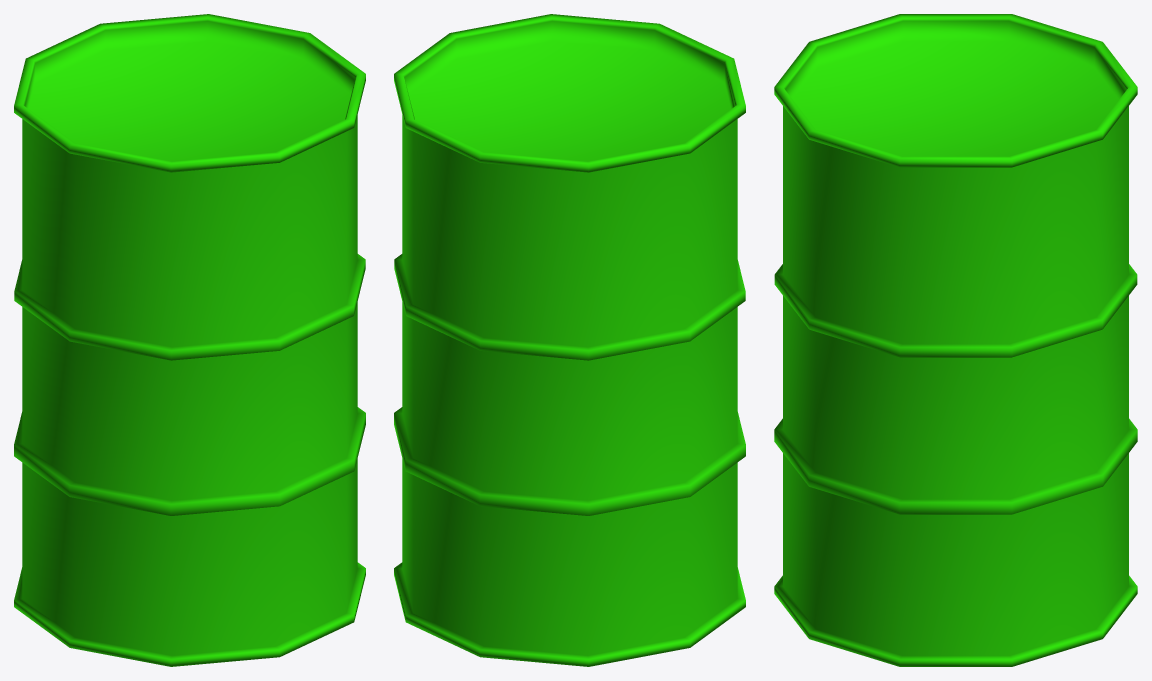
File: Oil_Tank_02_Lod1.fbx
The picture shows the model from 3 angles, left to right: view 1: azimuth 30°, elevation 25°; view 2: azimuth 150°, elevation 25°; view 3: azimuth 270°, elevation 25°; orthographic projection.
Visible parts, largest first — view 1: Oil_Tank_02_Lod1; view 2: Oil_Tank_02_Lod1; view 3: Oil_Tank_02_Lod1.
Boxes of the visible parts, x1,y1,x2,y2 form: Oil_Tank_02_Lod1: (14,14,365,666); Oil_Tank_02_Lod1: (394,14,745,666); Oil_Tank_02_Lod1: (774,14,1137,666).
Bounding box in the file's own units: 60.64 × 98.17 × 63.76.
